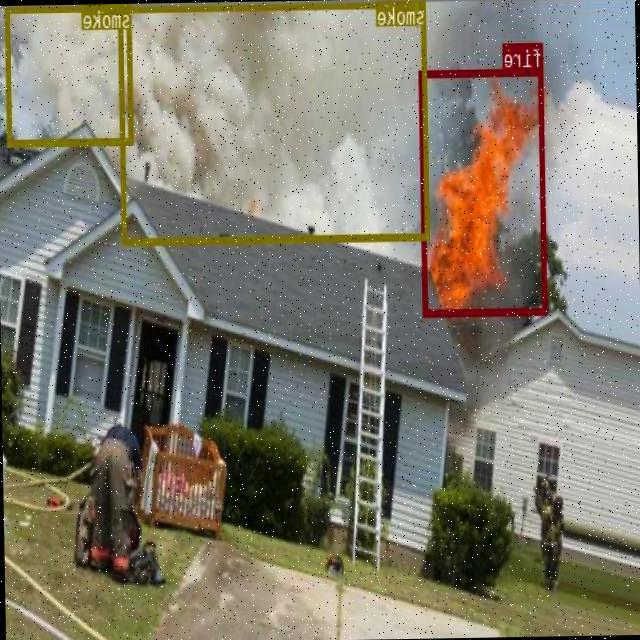fire: (420, 64, 547, 312)
smoke: (119, 0, 430, 241), (5, 4, 134, 144)
